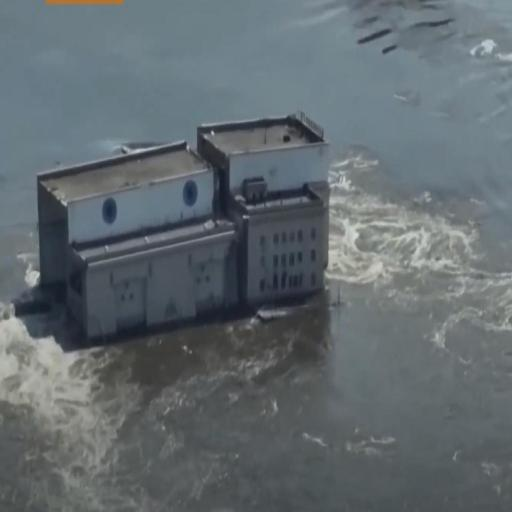flood: (0, 150, 512, 511), (0, 0, 512, 299)
house: (34, 106, 332, 344)
